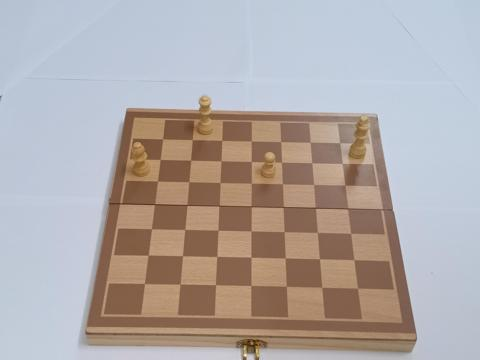xcorner: (186, 135, 196, 145), (174, 280, 184, 290), (210, 281, 220, 291), (278, 203, 288, 213), (279, 228, 289, 238), (334, 139, 344, 149), (151, 177, 161, 186), (148, 200, 158, 209), (145, 225, 155, 234), (142, 251, 151, 261), (138, 280, 148, 289), (214, 179, 224, 188), (213, 202, 223, 211), (212, 227, 222, 236), (211, 253, 221, 262), (246, 157, 255, 167), (246, 179, 255, 189), (246, 227, 255, 237), (246, 282, 255, 292), (276, 158, 285, 168), (282, 283, 291, 293), (311, 204, 320, 214), (315, 256, 325, 265), (346, 230, 356, 239), (157, 135, 166, 144), (154, 155, 163, 164), (185, 156, 194, 165), (183, 178, 192, 187), (181, 201, 190, 210), (179, 226, 188, 235), (177, 252, 186, 261), (216, 136, 225, 145), (215, 157, 224, 166), (246, 137, 255, 146), (246, 203, 255, 212), (246, 254, 255, 263), (275, 138, 284, 147), (277, 180, 286, 189), (281, 255, 290, 264), (305, 139, 314, 148), (307, 159, 316, 168), (309, 181, 318, 190), (313, 229, 322, 238), (318, 284, 327, 293), (337, 160, 346, 169), (340, 182, 349, 191), (343, 205, 352, 214), (350, 257, 359, 266), (354, 285, 363, 294)
